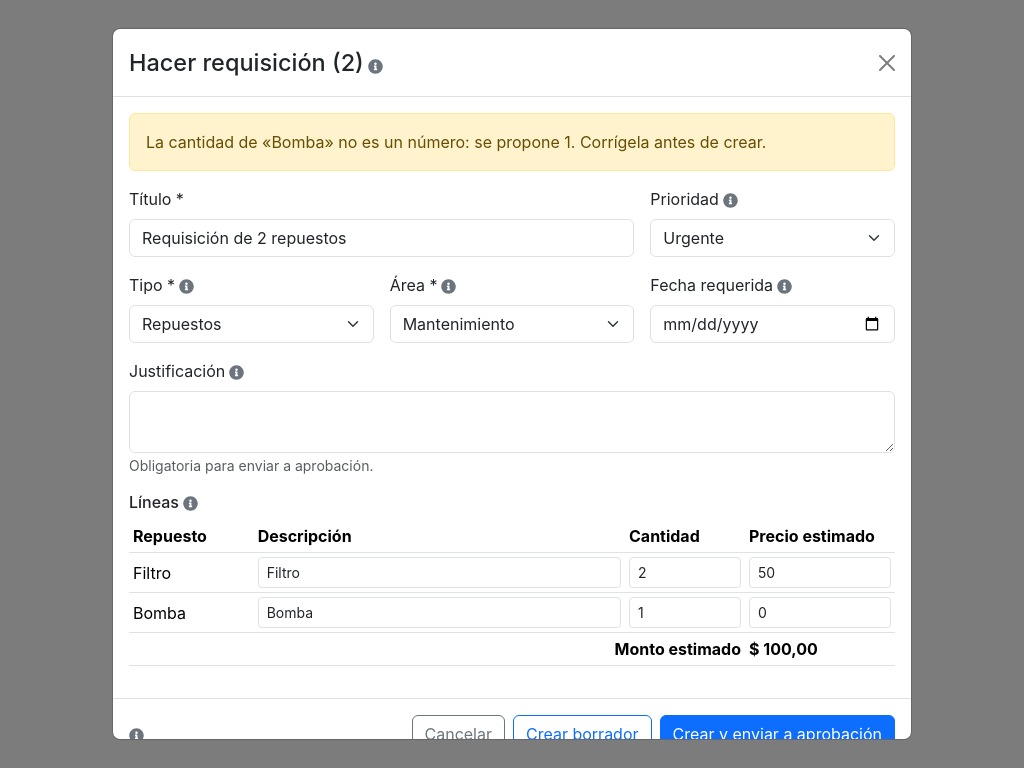
Test case: HacerRequisicionModal › shows the Spanish message of SOLICITUD_YA_VINCULADA and stays open
Expected: the dropdown labelled "Tipo *" shows "Repuestos", x1=129 y1=305 x2=374 y2=343
Step 1. Click the button "Crear borrador" → click(582, 734), box x1=513 y1=715 x2=652 y2=753
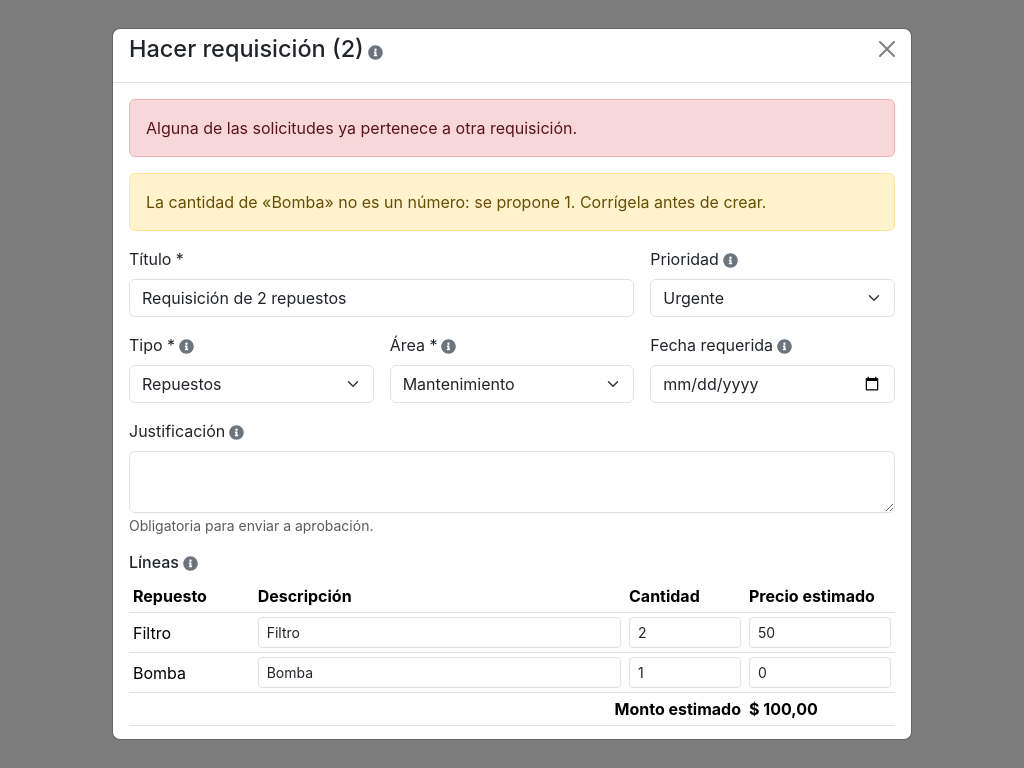
Now the text "Alguna de las solicitudes ya pertenece a otra requisición." is shown, box x1=129 y1=99 x2=895 y2=157
